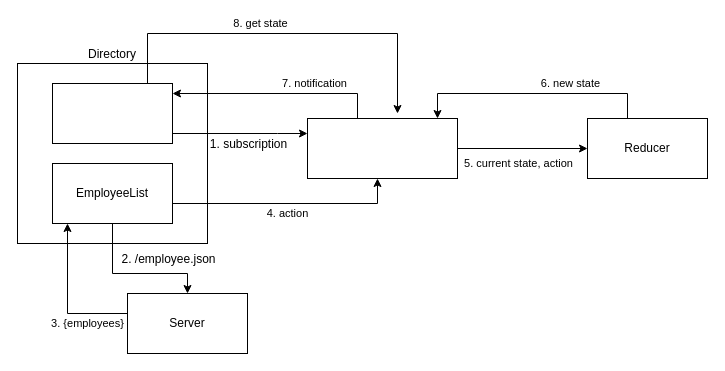
Image size: 725x371. Some labels were removed from this diagram. Here are the shapes that lost their labels. From the top down, the box of each, then its label:
(52, 82, 172, 144): EmployeeForm
(306, 118, 458, 178): Store
